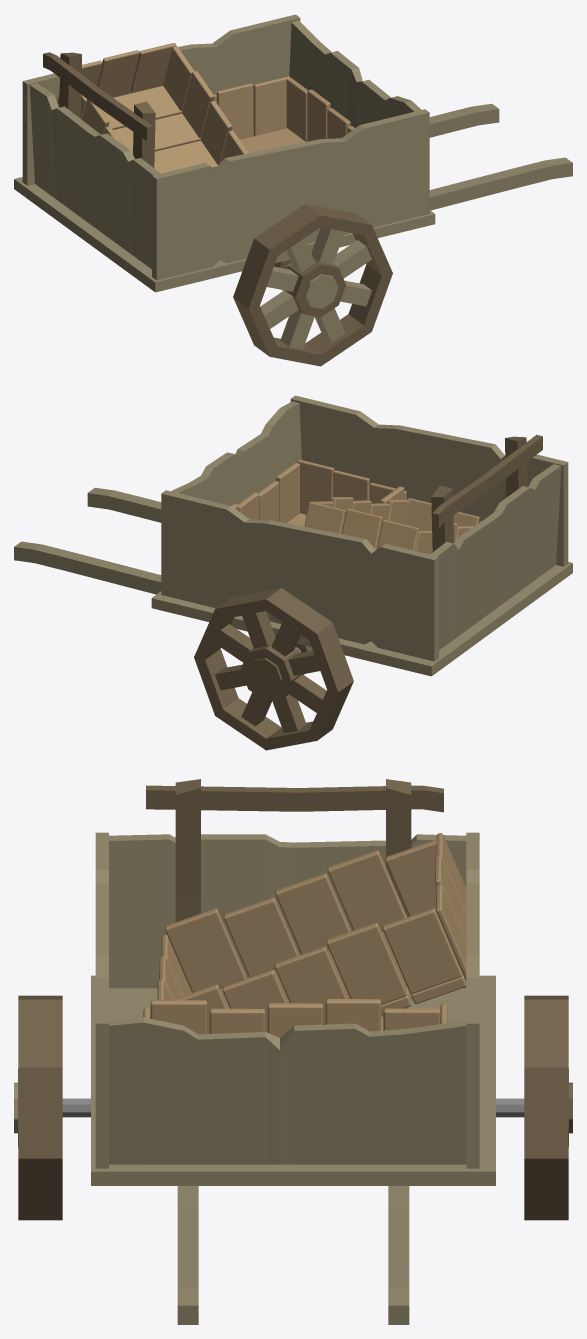
The model's file is DoluYukArabas.fbx.
The picture shows the model from 3 angles, top to bottom: view 1: azimuth 30°, elevation 25°; view 2: azimuth 150°, elevation 25°; view 3: azimuth 270°, elevation 25°; orthographic projection. The views are drawn at different scales.
Visible parts, largest first — view 1: Cube.002, Plane.008, Plane.003; view 2: Cube.002, Plane.008, Plane.003; view 3: Cube.002, Plane.008, Plane.003.
Boxes of the visible parts, bbox=[...] form: Cube.002: bbox=[14, 14, 572, 366]; Plane.008: bbox=[57, 43, 248, 173]; Plane.003: bbox=[213, 76, 354, 152]; Cube.002: bbox=[14, 395, 572, 750]; Plane.008: bbox=[304, 497, 480, 554]; Plane.003: bbox=[231, 459, 406, 526]; Cube.002: bbox=[14, 779, 572, 1324]; Plane.008: bbox=[157, 833, 466, 1033]; Plane.003: bbox=[143, 999, 447, 1037].
Size of the model in its own units: 583 by 305 by 440.
